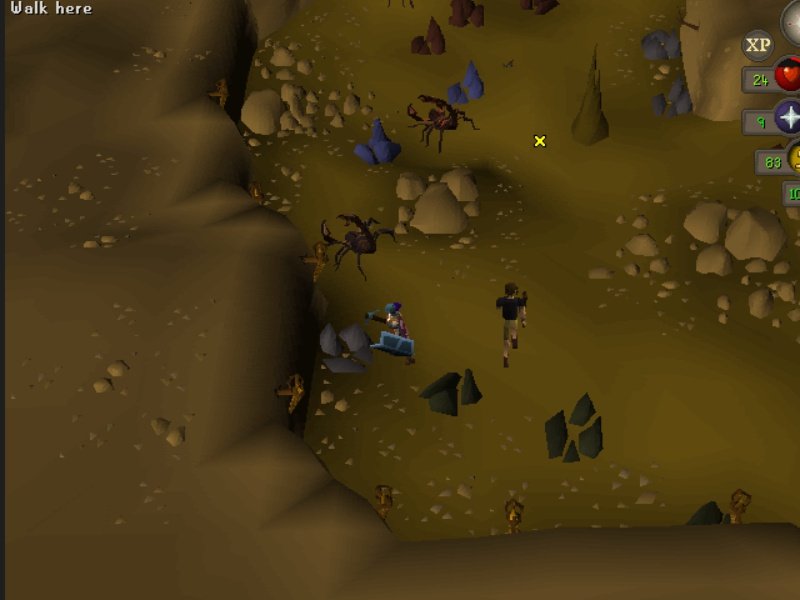coal: (542, 389, 606, 469), (417, 364, 485, 420)
iron: (408, 13, 450, 59), (445, 1, 488, 30), (517, 1, 564, 17)
mithril: (352, 116, 406, 168), (443, 58, 487, 108)
